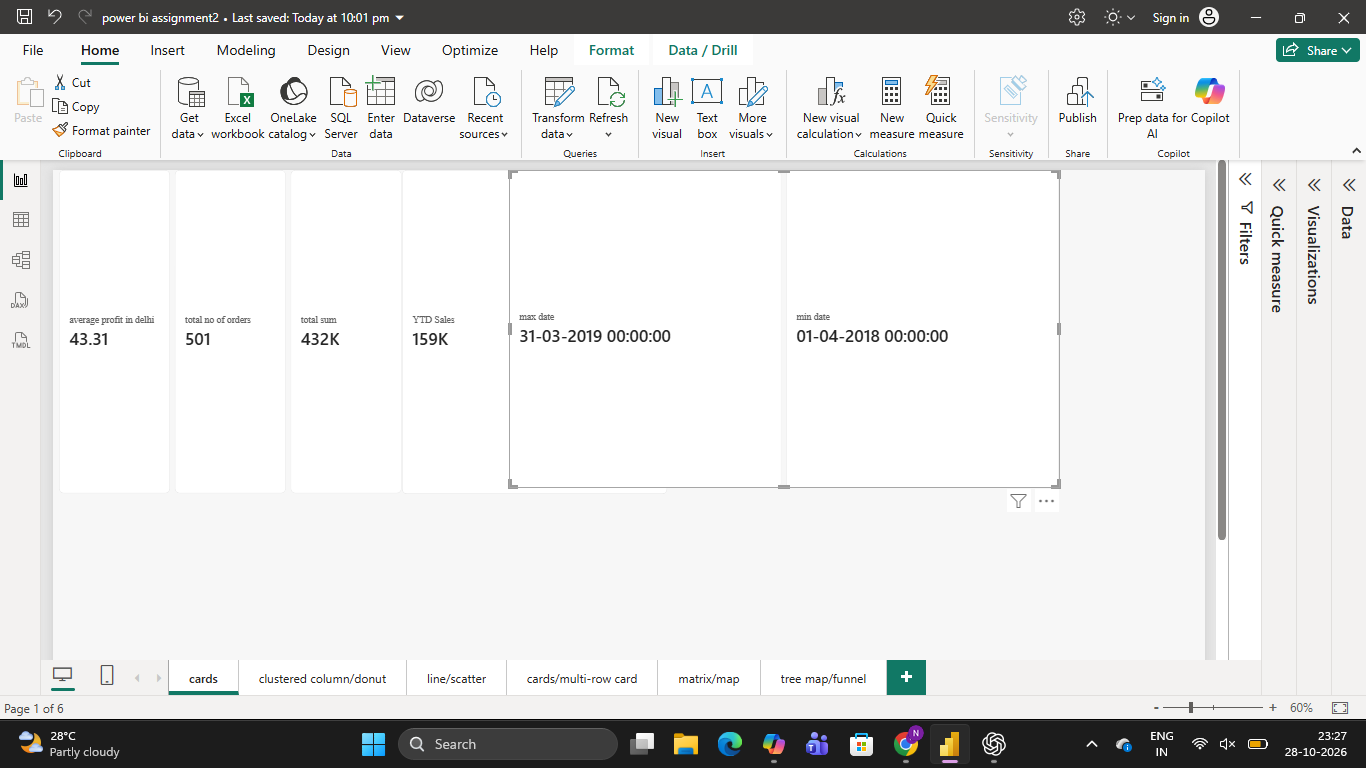

Layout of this report page (visuals, bound fields, positions):
{"tool":"powerbi","page":{"name":"cards","canvas":[1920,1080],"ordinal":0},"visuals":[{"type":"cardVisual","fields":{"Data":["Order Details (1).average profit in delhi","Order Details (1).total no of orders","Order Details (1).total sum"]},"box":[10.1,0,572,539.2],"z":0},{"type":"cardVisual","fields":{"Data":["List of Orders (1).max date","List of Orders (1).min date"]},"box":[760,0,917.5,530],"z":1},{"type":"cardVisual","fields":{"Data":["Date_table.YTD Sales"]},"box":[581.7,0,442.5,540],"z":2}]}

Visuals, with their boxes on the page's 1920x1080 design canvas (x1, y1, x2, y2). These are canvas units, not pixel positions in the 1366x768 screenshot, which may show the page scaled, cropped or inside an application window:
cardVisual - Order Details (1).average profit in delhi x Order Details (1).total no of orders: box=[10, 0, 582, 539]
cardVisual - List of Orders (1).max date x List of Orders (1).min date: box=[760, 0, 1678, 530]
cardVisual - Date_table.YTD Sales: box=[582, 0, 1024, 540]
